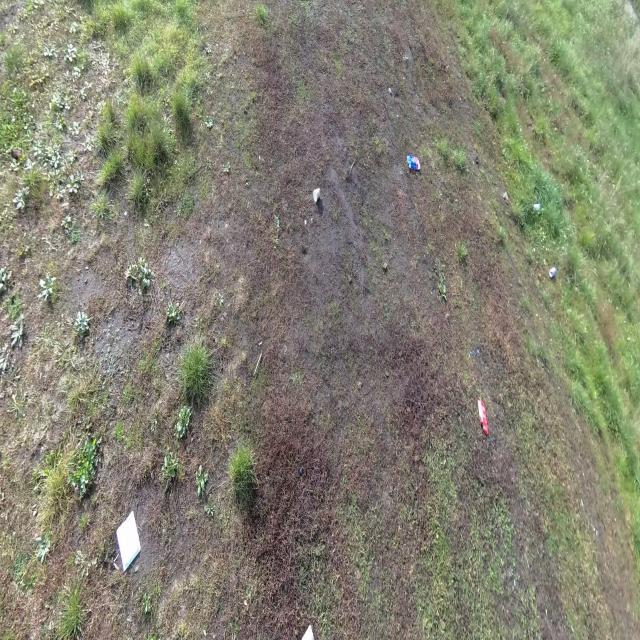rubbish: (115, 509, 142, 574), (477, 398, 490, 438), (300, 621, 316, 639), (406, 154, 421, 172), (313, 186, 321, 204), (549, 266, 556, 279), (533, 203, 541, 211)
